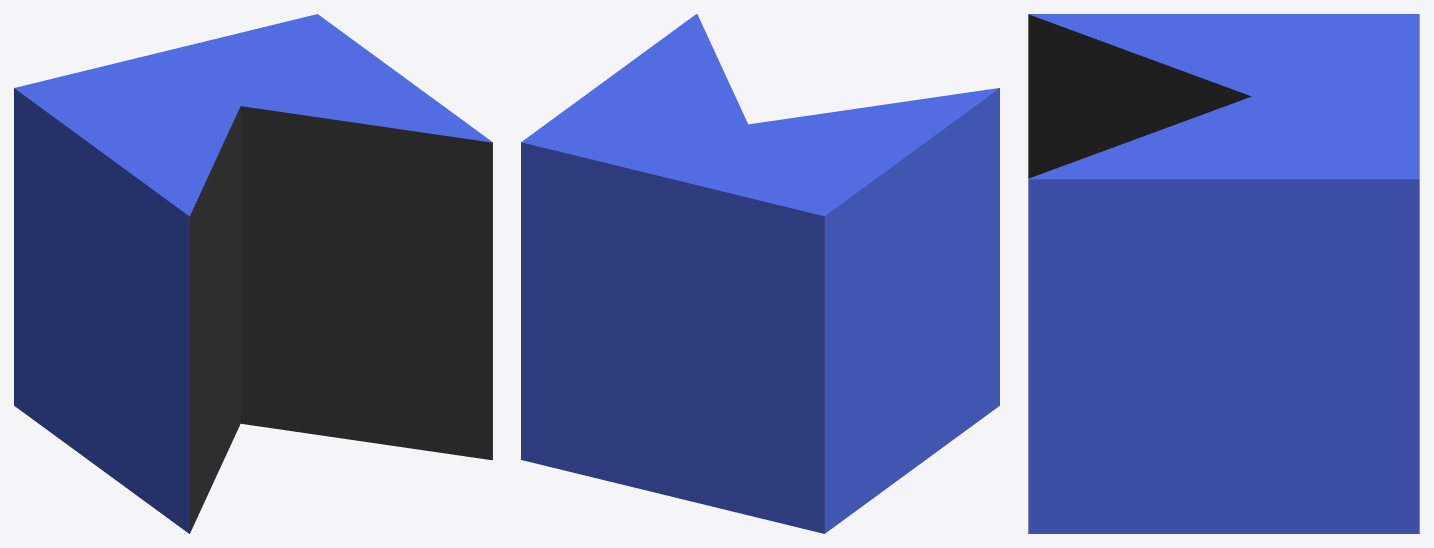
The model's file is obstacle.fbx.
3 views of the same model, side by side, from view 1: azimuth 30°, elevation 25°; view 2: azimuth 150°, elevation 25°; view 3: azimuth 270°, elevation 25° (orthographic). The views are drawn at different scales.
Parts seen in each view (by area): view 1: Cube; view 2: Cube; view 3: Cube.
Boxes of the visible parts, x1,y1,x2,y2 form: Cube: [14, 14, 492, 533]; Cube: [521, 14, 999, 533]; Cube: [1028, 14, 1419, 533].
Bounding box in the file's own units: 200 × 200 × 200.
